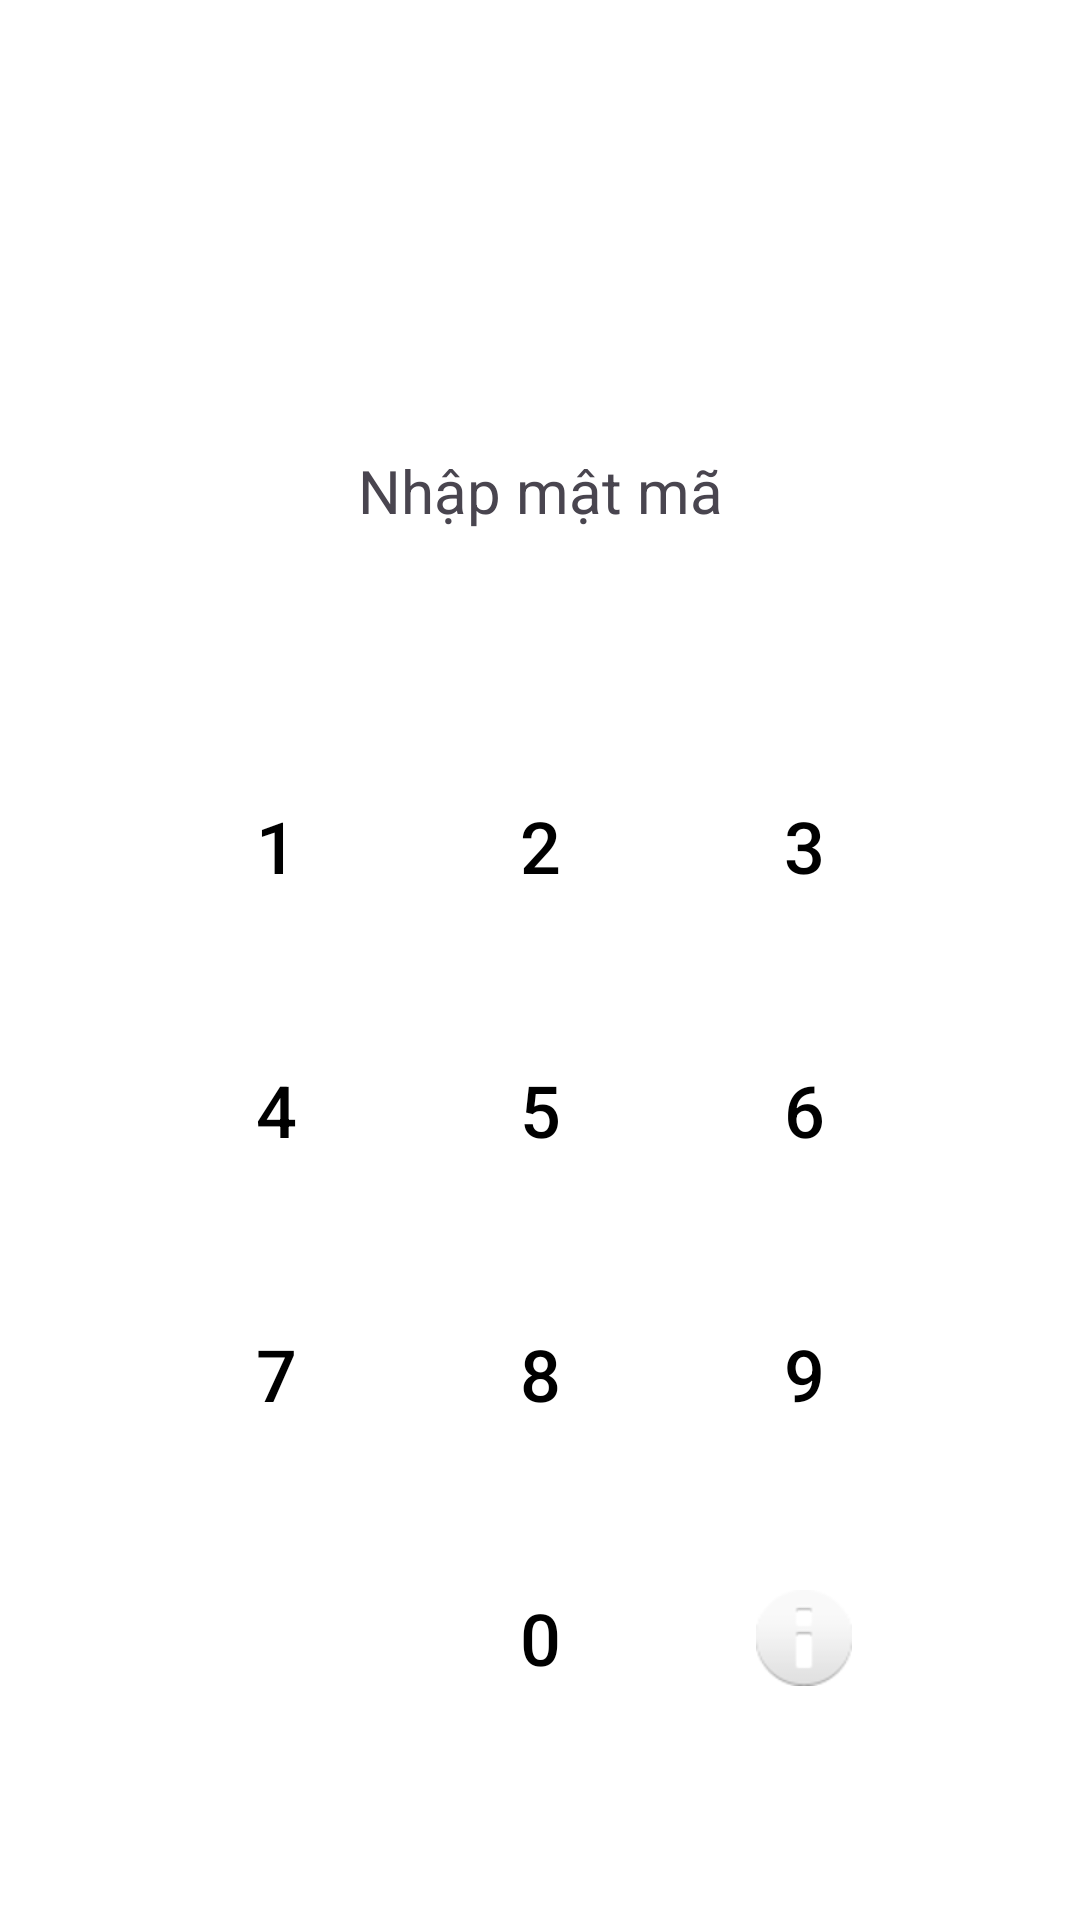

Point at icon controls on the screen. Image size 1080x1920, points as [x,y].
info: [804,1647]
